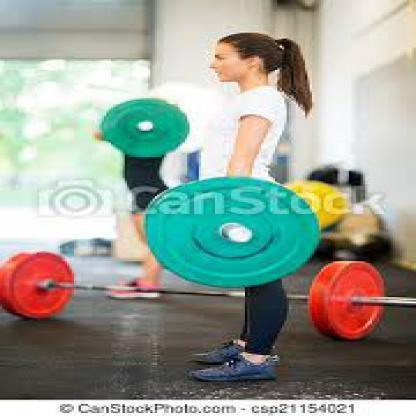barbell: (0, 250, 416, 344), (142, 174, 322, 288), (98, 98, 192, 158)
